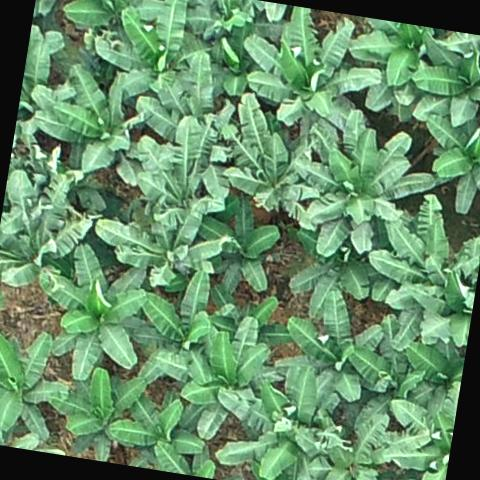Banana-plant: (286, 100, 442, 267), (236, 0, 391, 139), (28, 239, 154, 384), (368, 192, 480, 346), (26, 61, 147, 185), (273, 286, 386, 417), (88, 0, 216, 112), (217, 92, 322, 222), (184, 310, 283, 446), (92, 192, 224, 292), (126, 258, 218, 396), (215, 359, 319, 480), (39, 364, 146, 466), (190, 193, 288, 301), (346, 17, 442, 123), (126, 112, 227, 212), (282, 224, 379, 328), (373, 371, 460, 480), (104, 390, 208, 476), (4, 204, 93, 302), (406, 26, 480, 141), (0, 328, 70, 443), (417, 109, 480, 220), (286, 413, 384, 480), (202, 15, 274, 98), (0, 171, 68, 253), (400, 337, 466, 418), (413, 270, 477, 344), (172, 0, 284, 42), (62, 0, 163, 44)
